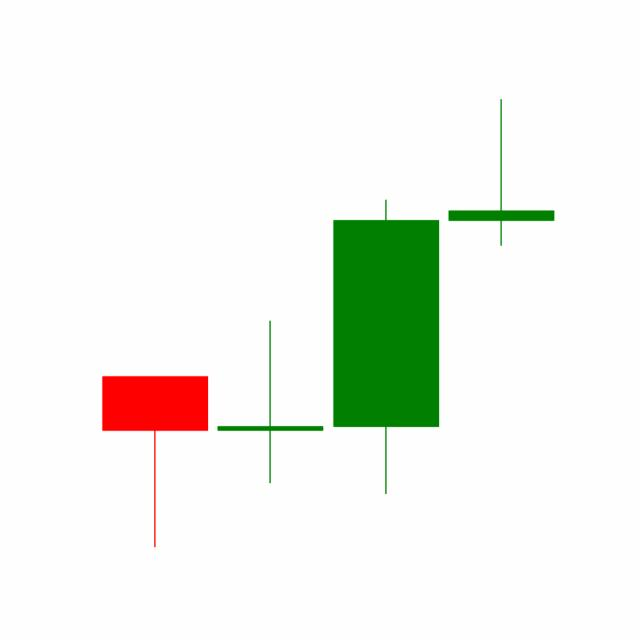Gravestone Doji: (443, 97, 559, 247)
